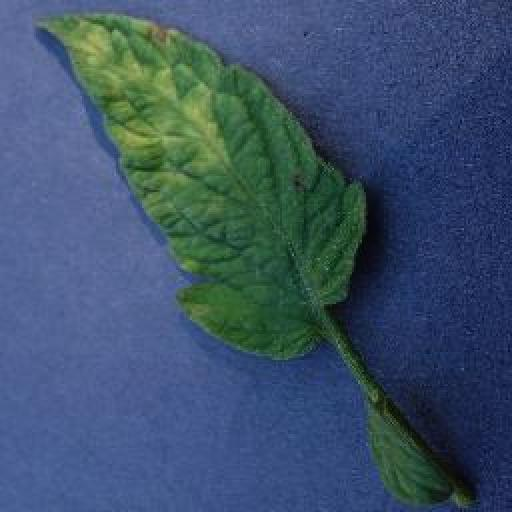disease_tomato: (38, 14, 374, 360)
